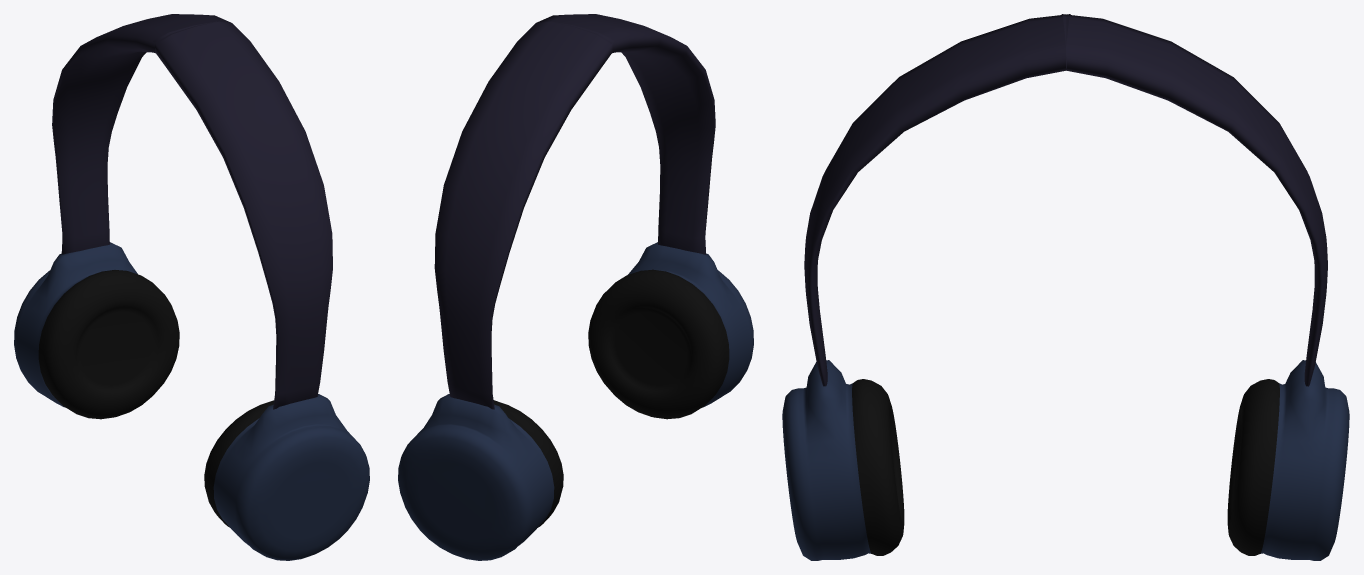
Rendered from Headphones.fbx.
3 views of the same model, side by side, from view 1: azimuth 30°, elevation 25°; view 2: azimuth 150°, elevation 25°; view 3: azimuth 270°, elevation 25° (orthographic). The views are drawn at different scales.
Parts seen in each view (by area): view 1: Cylinder.001; view 2: Cylinder.001; view 3: Cylinder.001.
Boxes of the visible parts, x1,y1,x2,y2 form: Cylinder.001: (14, 14, 369, 560); Cylinder.001: (398, 14, 753, 560); Cylinder.001: (782, 14, 1349, 560).
Size of the model in its own units: 42.97 by 141 by 138.
